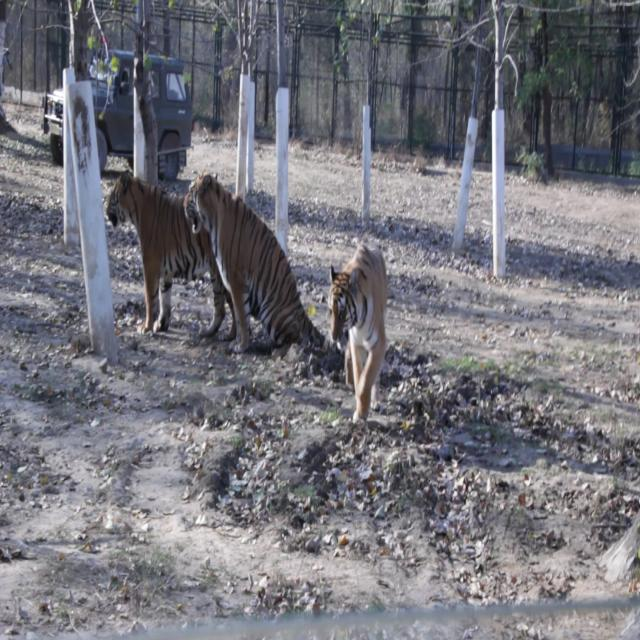Tiger: (181, 154, 322, 366), (104, 161, 222, 347), (314, 238, 408, 433)
